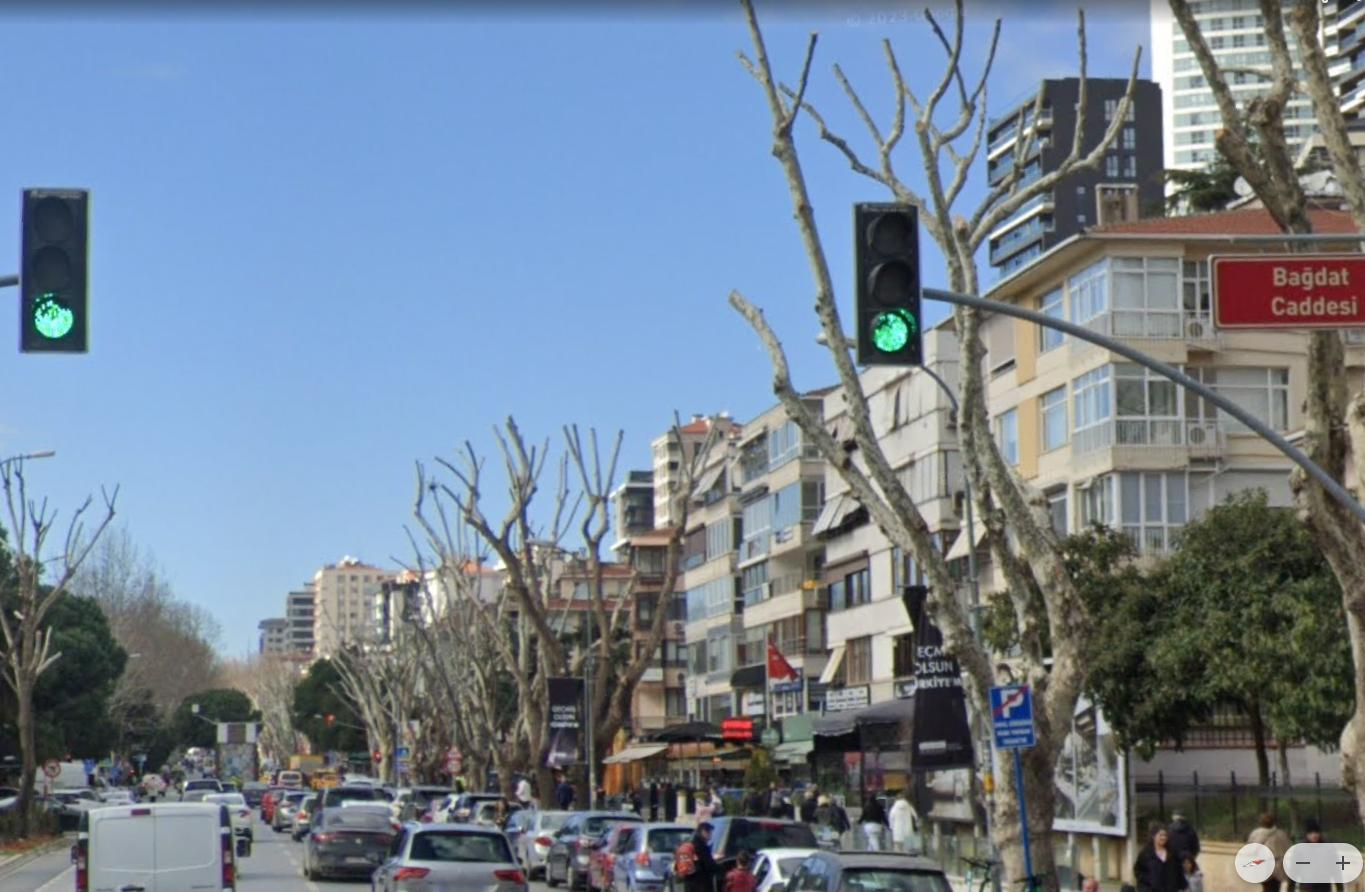greenlight: (24, 186, 89, 357), (857, 204, 924, 366)
